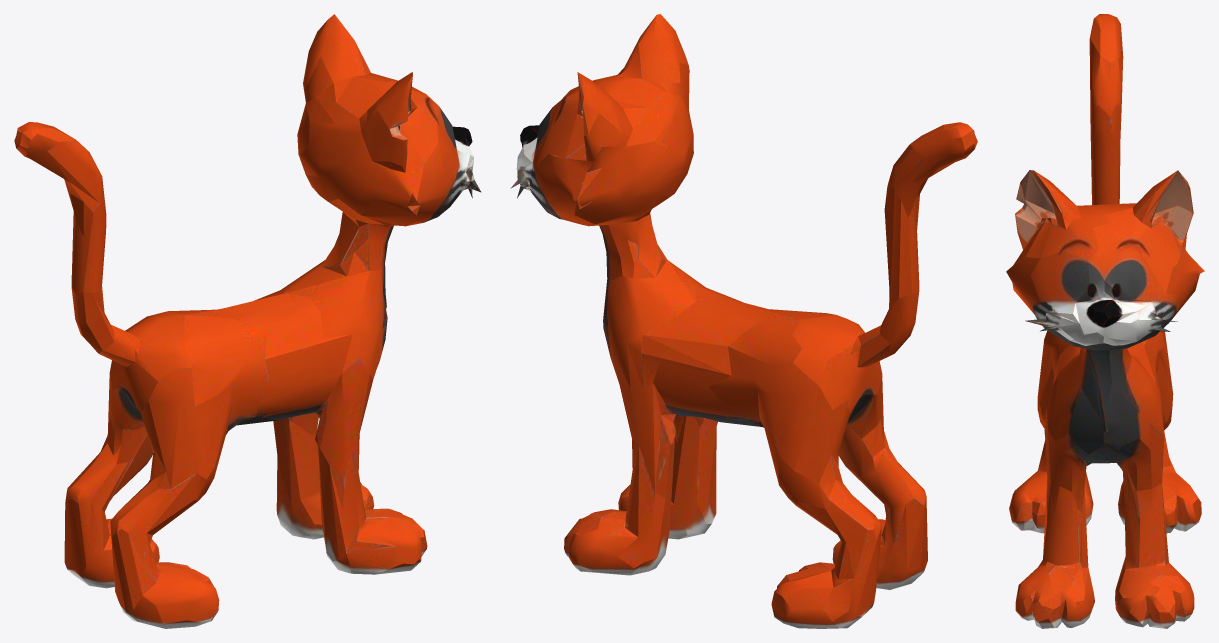
The model's file is AZRAELCAT-lo.glb.
3 views of the same model, side by side, from view 1: azimuth 30°, elevation 25°; view 2: azimuth 150°, elevation 25°; view 3: azimuth 270°, elevation 25° (orthographic). The views are drawn at different scales.
Parts seen in each view (by area): view 1: output_unwrapped; view 2: output_unwrapped; view 3: output_unwrapped.
Part boxes in pixels (x1=…): output_unwrapped: x1=14, y1=14, x2=481, y2=628; output_unwrapped: x1=510, y1=14, x2=977, y2=628; output_unwrapped: x1=1006, y1=14, x2=1204, y2=628.
Bounding box in the file's own units: 0.9547 × 1 × 0.3948.
1 material, 1 textured.
